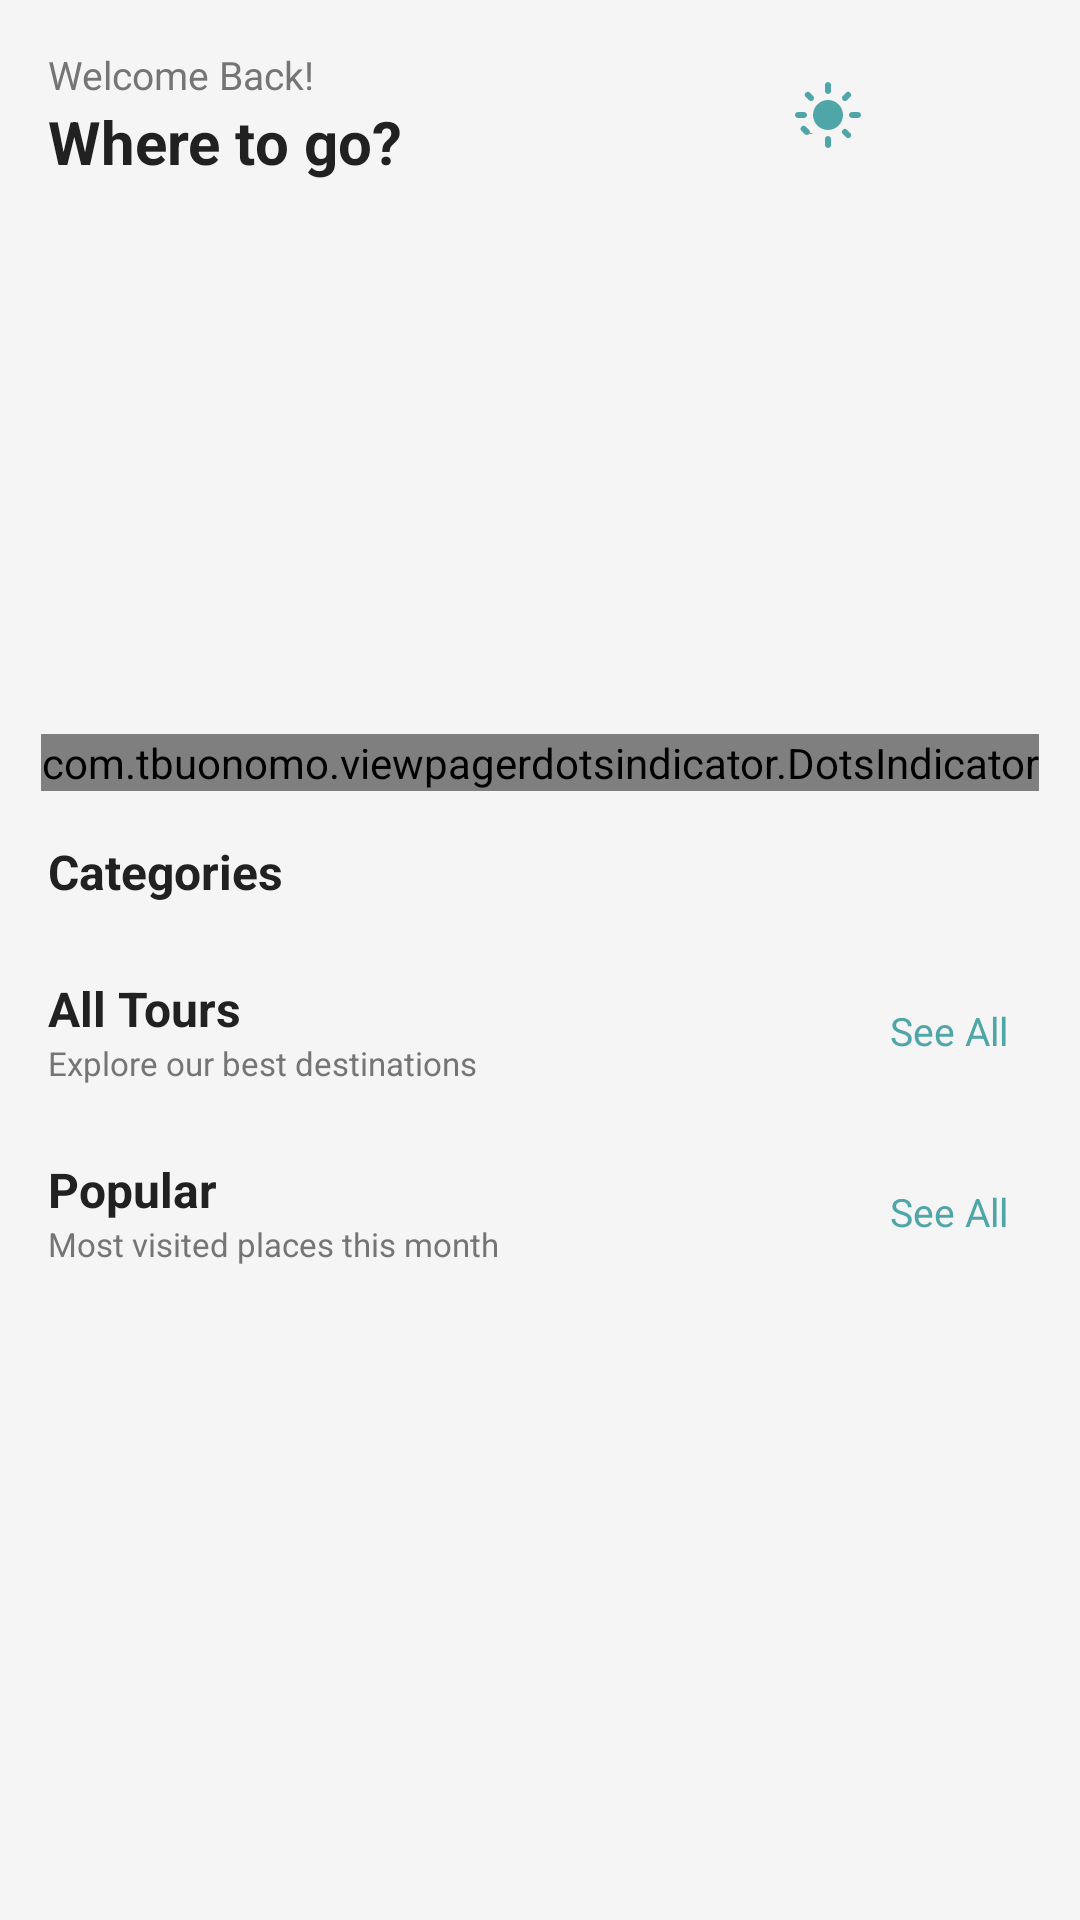

Icon bounding boxes for this 1080×1920 phone screenshot, format (x1, y1, x2, y2):
Toggle Theme: (795, 82, 861, 148)
